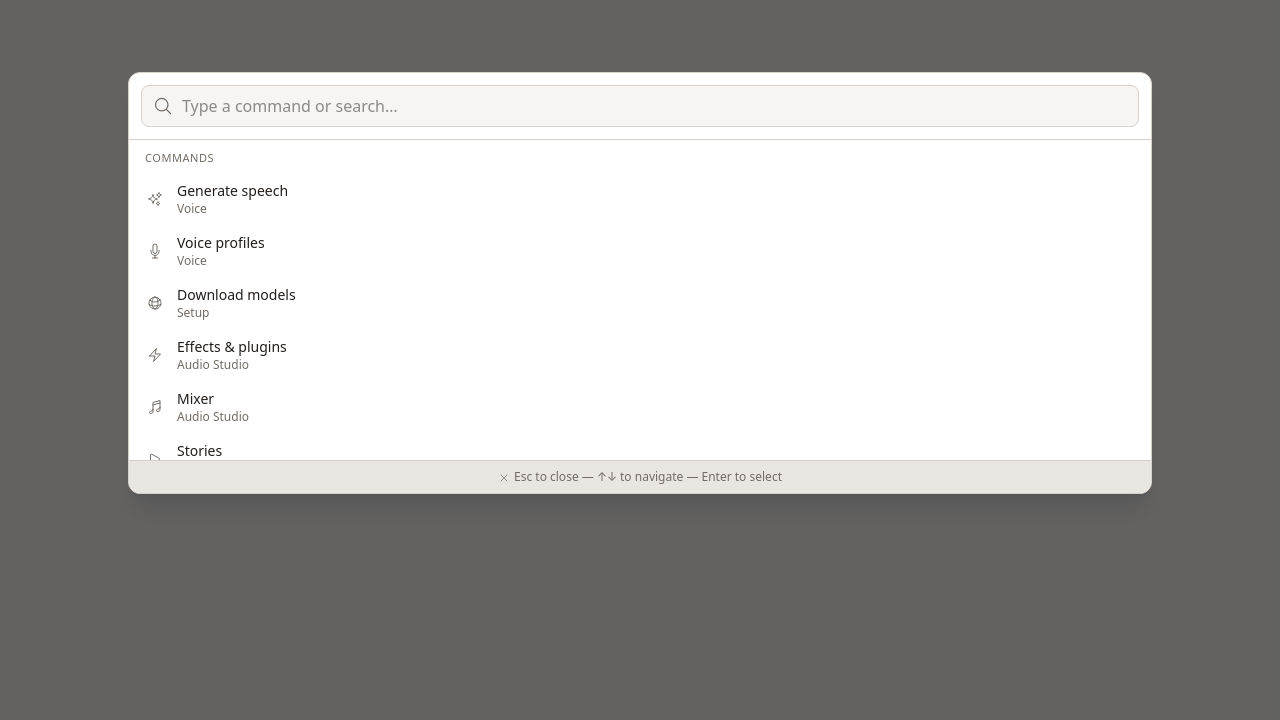
CommandPalette › CommandPalette — registry tabs › finds a hidden tab, marks it (hidden), and enables + opens it on select
Later steps or results of the test are not shown.
Type "noise" into the field with placeholder "Type a command or search…" at (640, 106), box [141,85,1139,127]
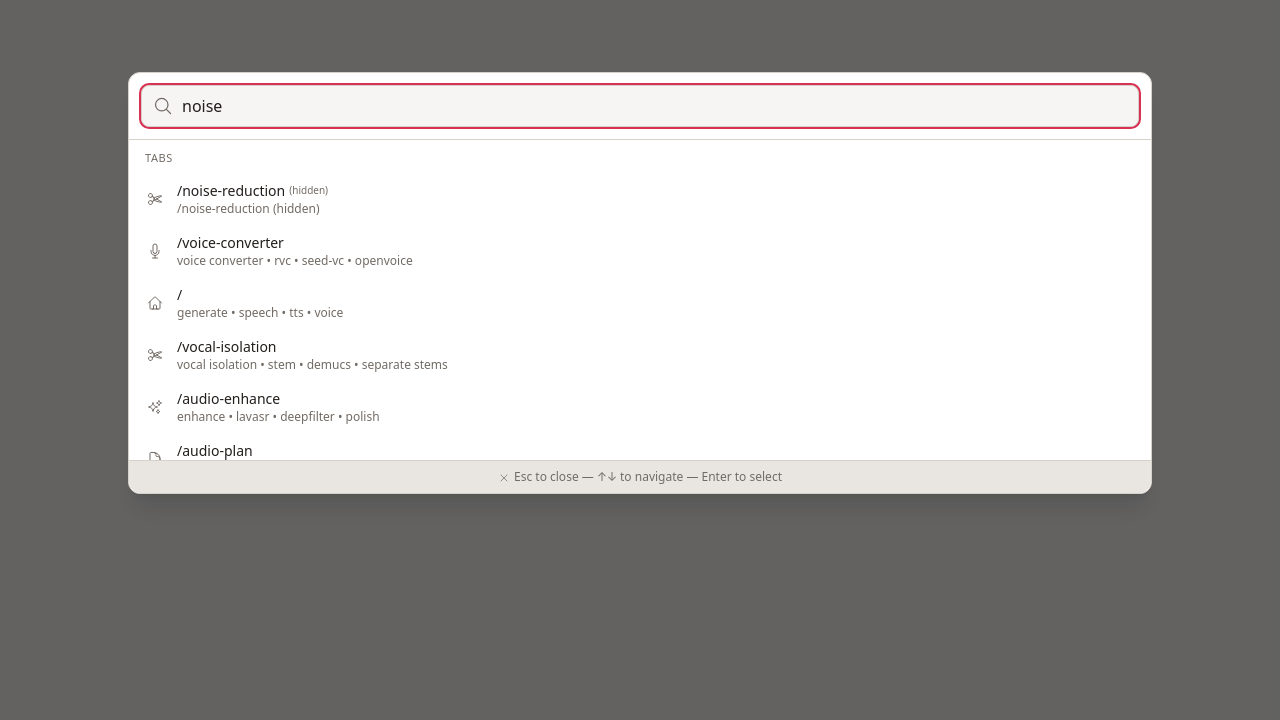
Result: the text "/noise-reduction" is shown at [177,180,285,200]
Result: the text "/noise-reduction (hidden)" is shown at [177,200,320,216]
